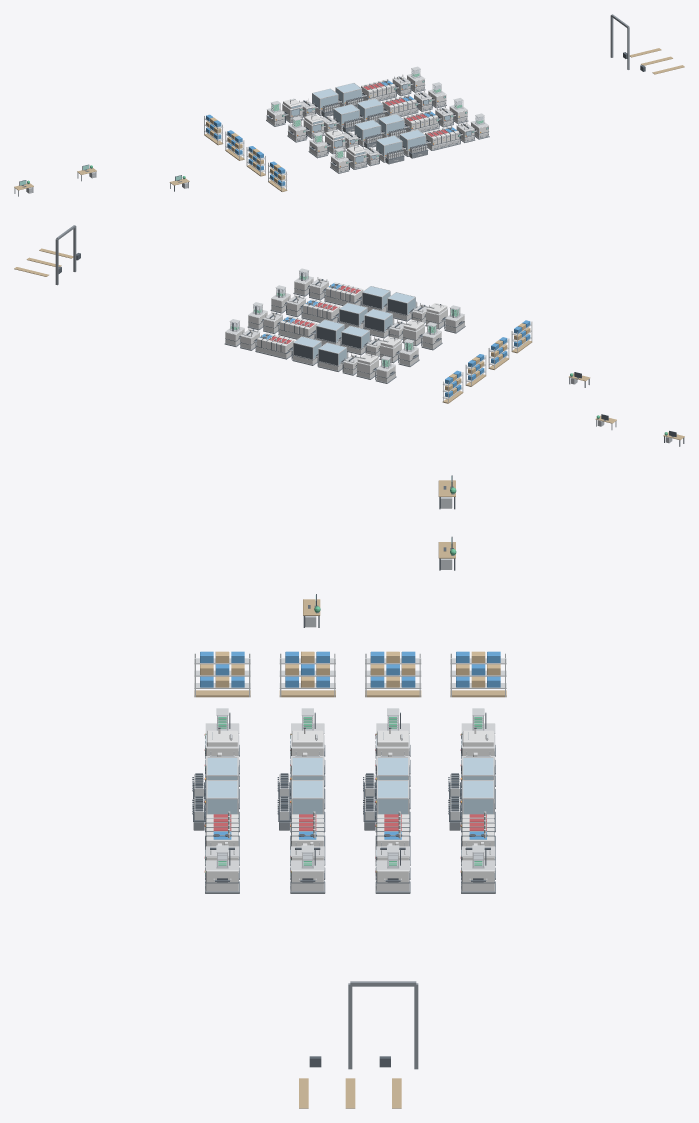
File: 昇嶺_3D廠房細節.glb
3 views of the same model, one above another, from view 1: azimuth 30°, elevation 25°; view 2: azimuth 150°, elevation 25°; view 3: azimuth 270°, elevation 25° (orthographic). The views are drawn at different scales.
Visible parts, largest first — view 1: Static_body2, Static_glass, Static_steel, Static_dark, Static_panel, Static_body, Static_base, Static_wood, Static_blue, Static_metal, Static_carton, Static_red (+1 smaller); view 2: Static_body2, Static_dark, Static_steel, Static_body, Static_glass, Static_base, Static_panel, Static_wood, Static_blue, Static_metal, Static_carton; view 3: Static_body2, Static_steel, Static_glass, Static_dark, Static_blue, Static_panel, Static_wood, Static_base, Static_carton, Static_metal, Static_body, Static_red.
Part boxes in pixels (x1,y1,x2,y2): Static_body2: (267, 76, 488, 167); Static_glass: (291, 83, 471, 162); Static_steel: (30, 66, 484, 192); Static_dark: (14, 52, 645, 196); Static_panel: (266, 74, 488, 172); Static_body: (266, 76, 488, 172); Static_base: (266, 14, 629, 173); Static_wood: (14, 48, 684, 191); Static_blue: (206, 80, 456, 186); Static_metal: (26, 69, 484, 193); Static_carton: (206, 117, 285, 183); Static_red: (276, 82, 480, 167); Static_body2: (225, 278, 464, 377); Static_dark: (58, 253, 684, 446); Static_steel: (229, 268, 532, 402); Static_body: (225, 278, 464, 382); Static_glass: (294, 286, 415, 364); Static_base: (55, 225, 465, 383); Static_panel: (225, 276, 464, 371); Static_wood: (14, 248, 684, 440); Static_blue: (259, 283, 530, 397); Static_metal: (229, 271, 672, 443); Static_carton: (445, 323, 530, 394); Static_body2: (206, 730, 494, 882); Static_steel: (194, 653, 506, 880); Static_glass: (205, 733, 493, 862); Static_dark: (192, 475, 494, 1067); Static_blue: (200, 651, 500, 839); Static_panel: (205, 723, 495, 890); Static_wood: (194, 480, 506, 1108); Static_base: (193, 745, 495, 1069); Static_carton: (200, 651, 500, 687); Static_metal: (212, 497, 484, 868); Static_body: (206, 748, 494, 891); Static_red: (204, 734, 486, 872).
Bounding box in the file's own units: 75.25 × 4.9 × 16.19.
